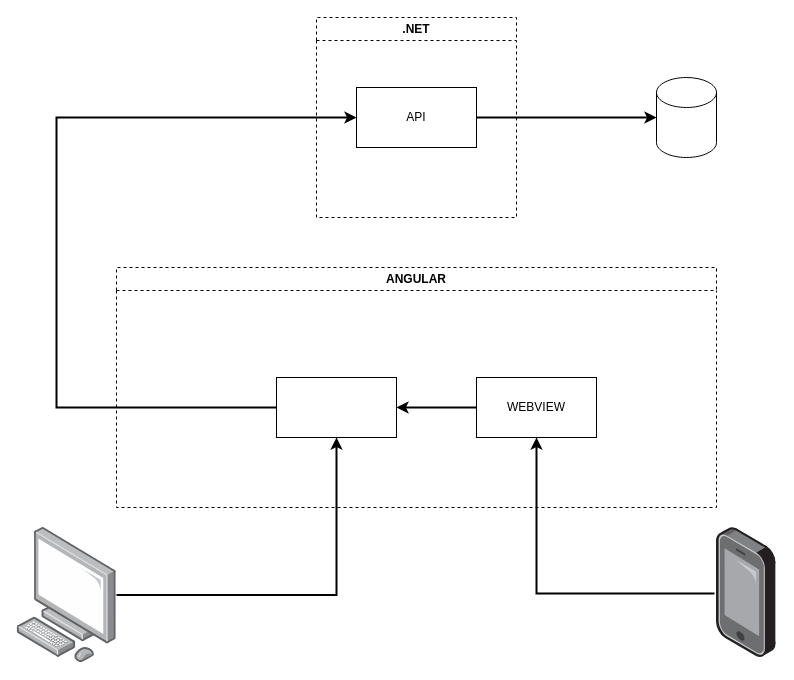
Some shapes in this 794 by 680 pixel diagram are drawn without their labels. The box of each missing label's shape, as (x1, y1, x2, y2) in pixels:
MYSQL: (656, 76, 716, 158)
PÁGINA WEB: (276, 376, 396, 438)
